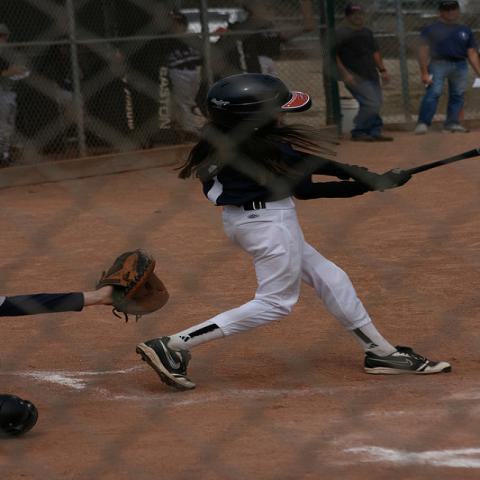car: (183, 9, 247, 37)
